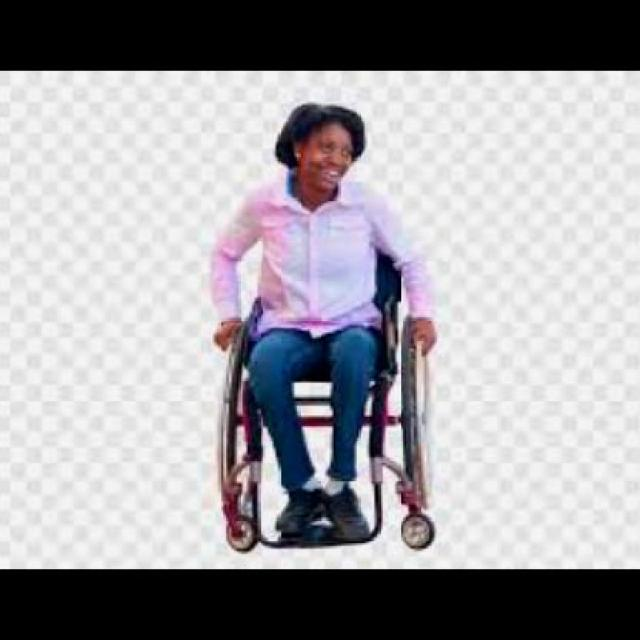wheelchairs: (211, 297, 441, 555)
